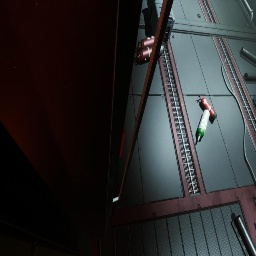0: (197, 110, 210, 142)
FireAlarm ,: (119, 125, 125, 157)
FireExtinguisher ]: (198, 95, 217, 121)
NitrogenTank ,: (137, 44, 163, 63), (138, 36, 163, 52)
